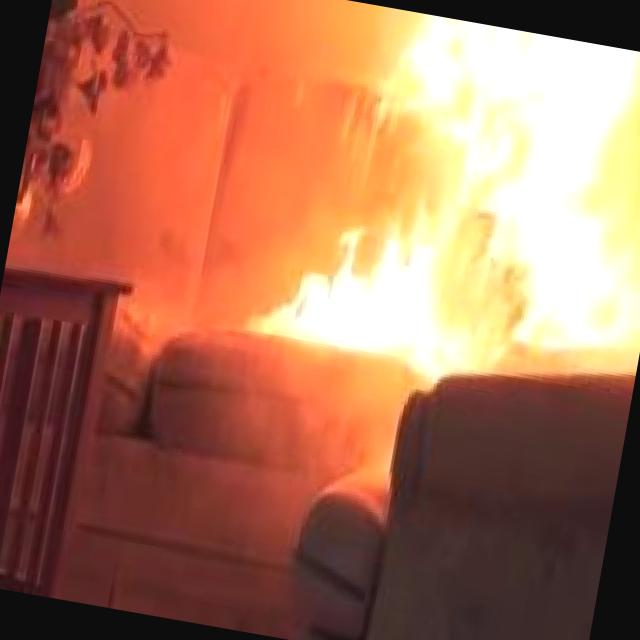fire: (258, 0, 640, 457)
